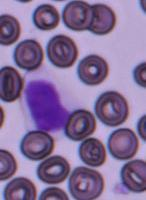M: (19, 72, 75, 134)
